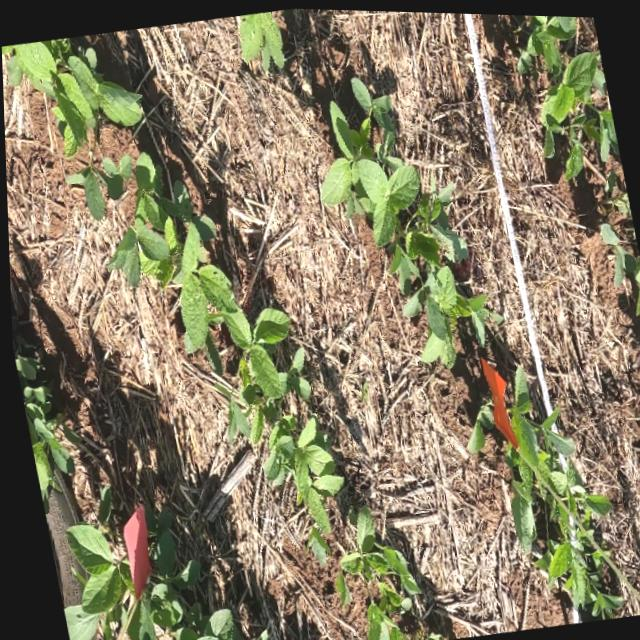soy_plant: (67, 152, 340, 562), (320, 76, 494, 363), (501, 364, 640, 615), (517, 12, 620, 174), (1, 38, 137, 148), (331, 506, 435, 640), (123, 561, 238, 640), (13, 353, 70, 512), (60, 525, 119, 640), (599, 188, 640, 309), (464, 361, 501, 450), (239, 10, 284, 68), (150, 523, 169, 561)
